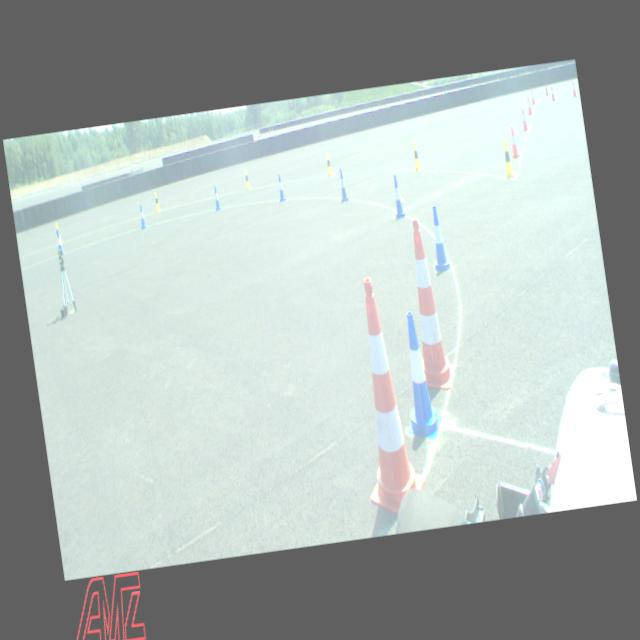blue_cone: (392, 308, 444, 442), (426, 204, 452, 273), (389, 173, 406, 220), (336, 168, 349, 202), (275, 173, 286, 202), (212, 185, 222, 211), (138, 203, 148, 229), (56, 230, 66, 256)
large_orange_cone: (340, 272, 429, 518), (398, 216, 458, 392)
orange_cone: (508, 125, 520, 158), (520, 106, 529, 130), (570, 80, 578, 97), (526, 97, 532, 115), (550, 85, 556, 102), (530, 88, 536, 105)
yellow_cone: (500, 139, 515, 179), (411, 142, 422, 170), (324, 152, 334, 176), (244, 168, 252, 190), (54, 222, 62, 244), (154, 192, 162, 212)
